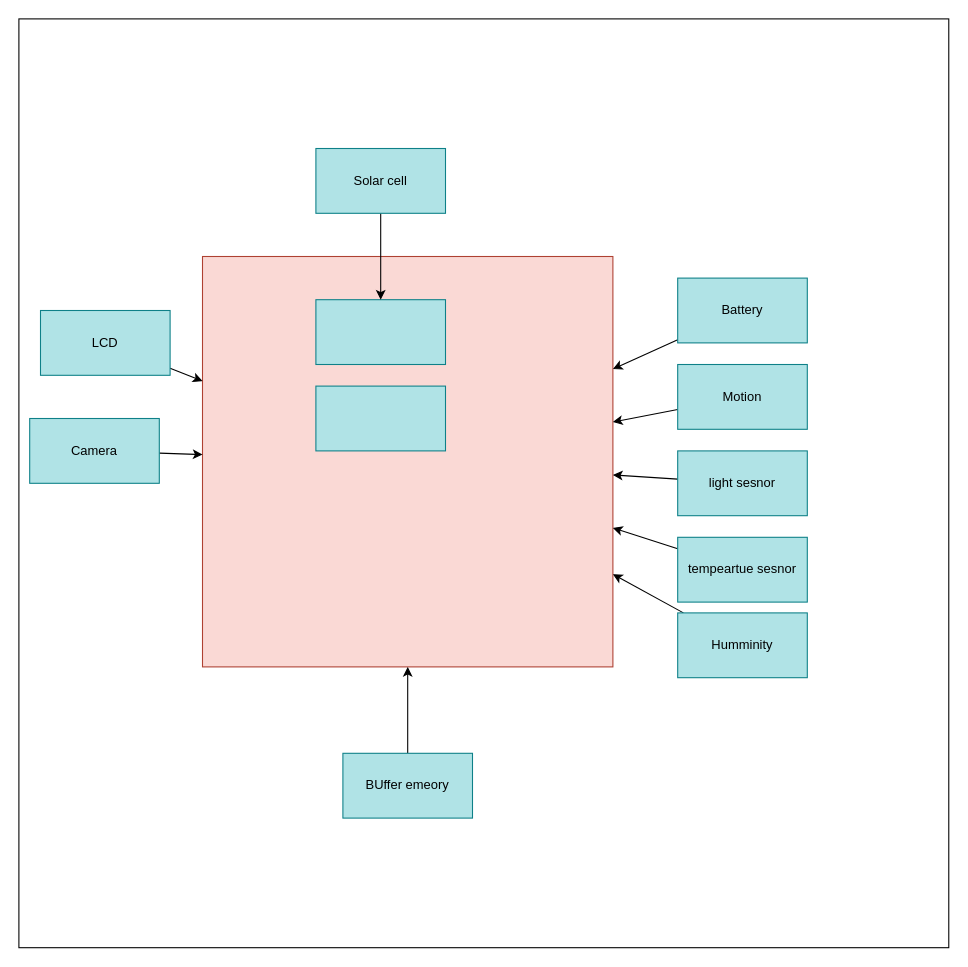
Some shapes in this 968 by 967 pixel diagram are drawn without their labels. Each missing label, with the centre of its shape:
Ardunio/pi: (380,418)
Radio transceviver: (380,331)
